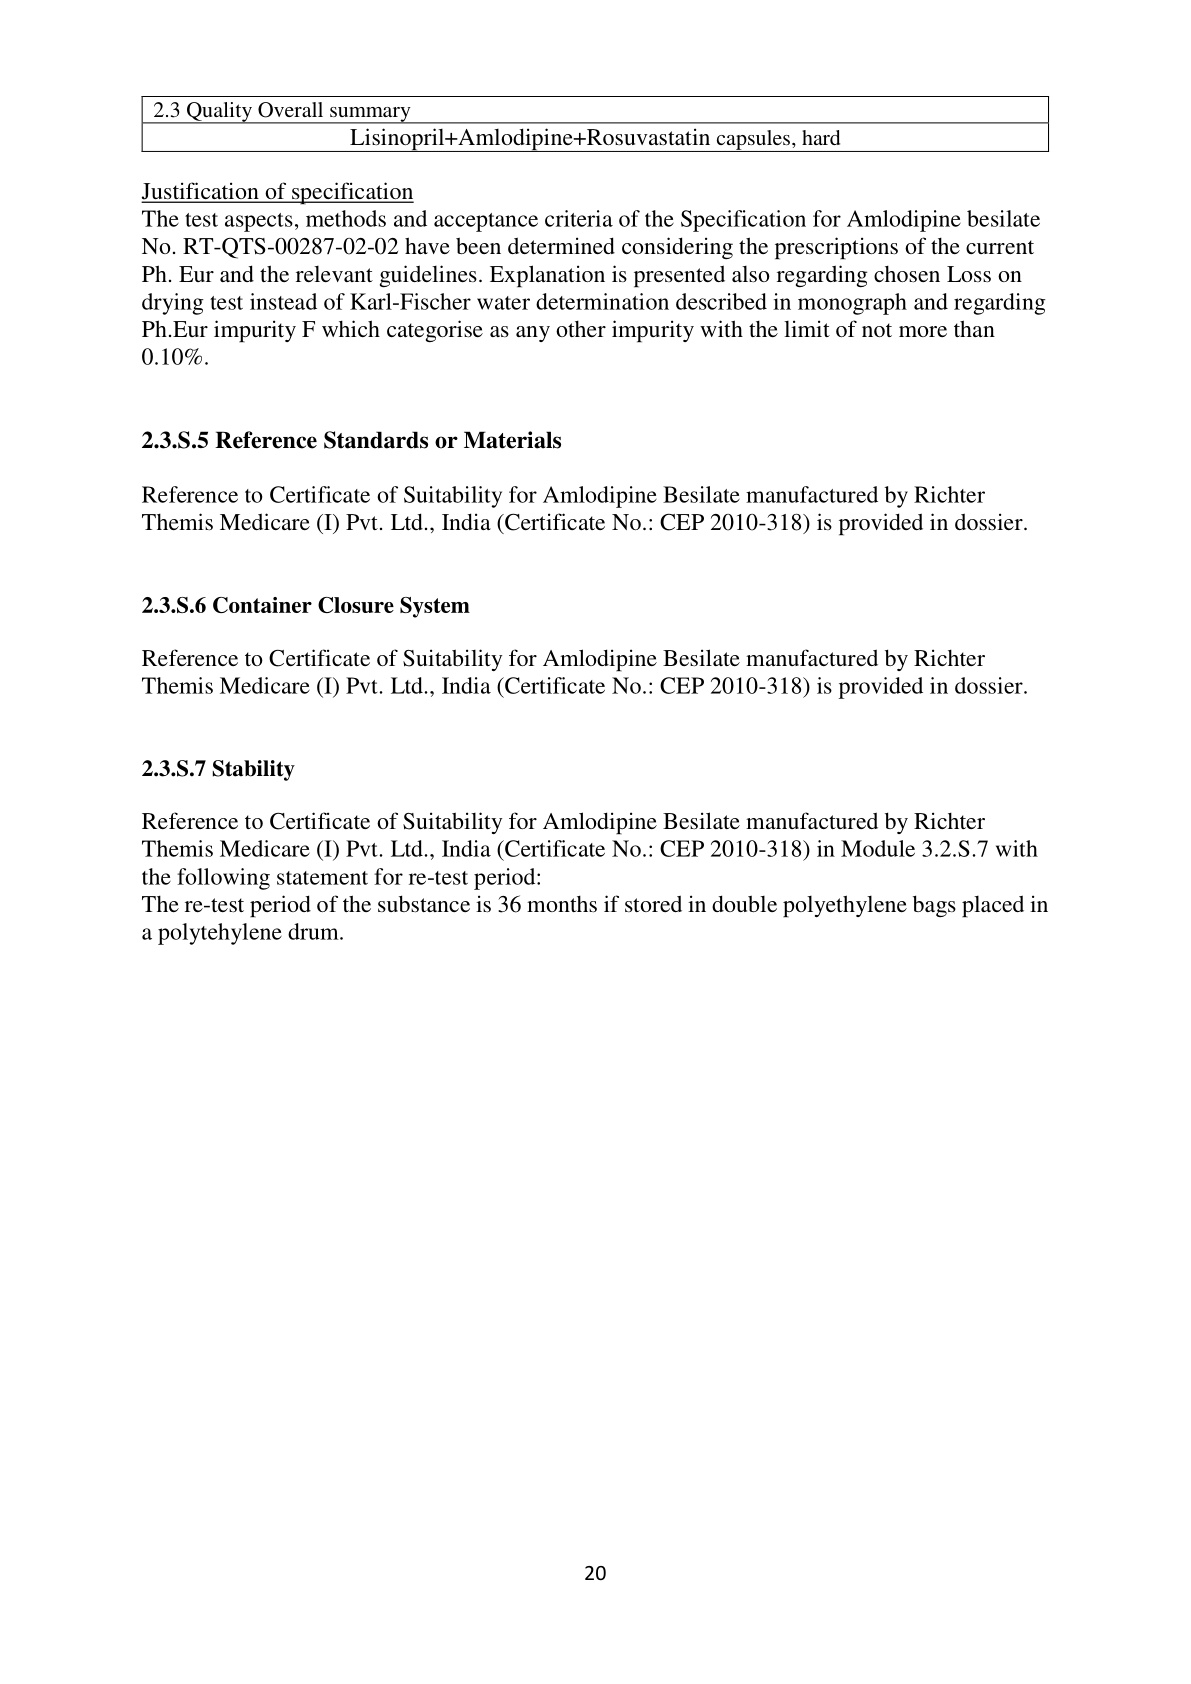full_lined: (140, 97, 1049, 153)
